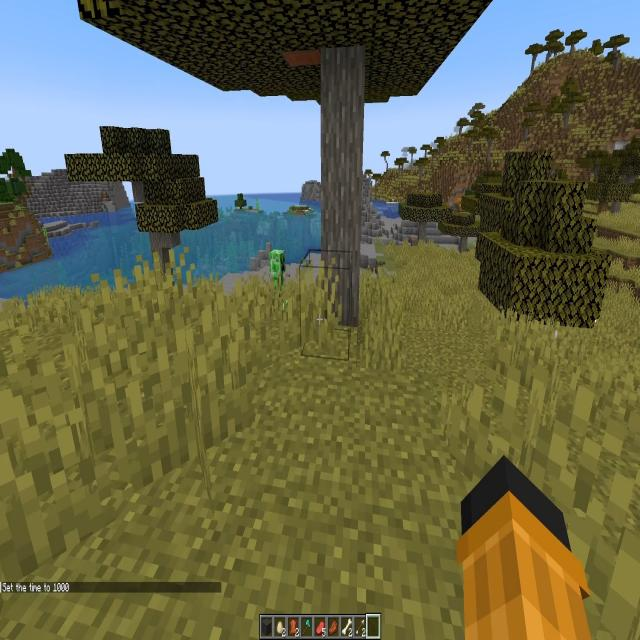Creeper: (270, 248, 286, 310)
